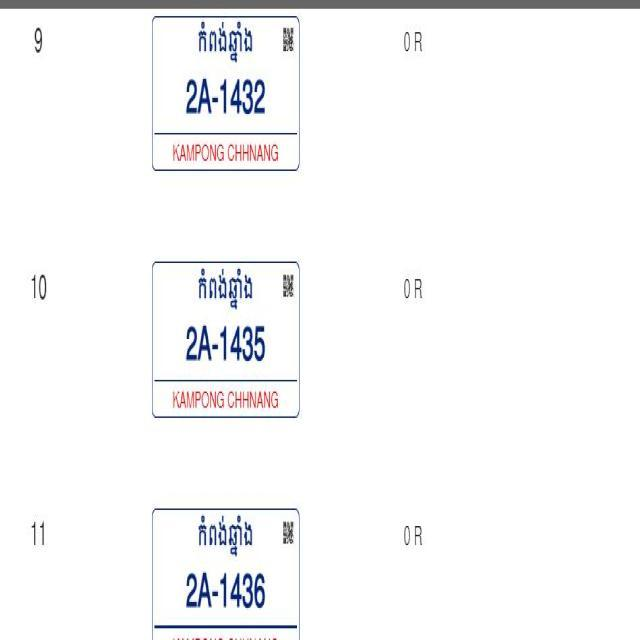Kampong_Chhnang: (194, 265, 254, 316), (196, 17, 256, 66), (196, 512, 256, 559)
